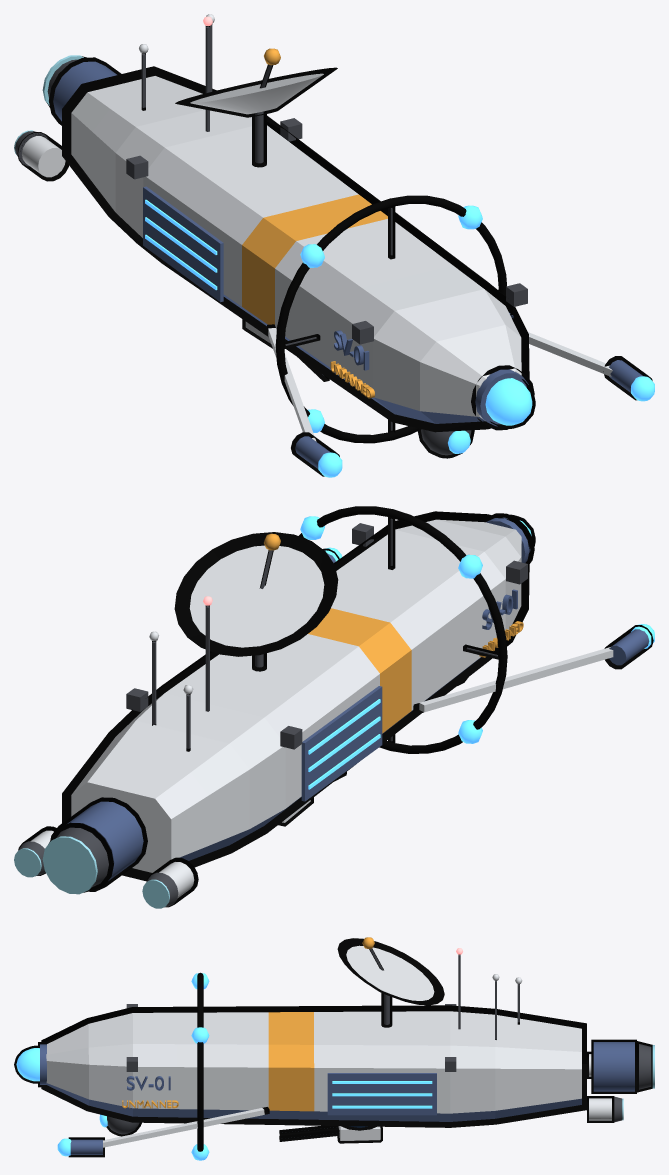
The model's file is Shuttle_Drone.fbx.
The picture shows the model from 3 angles, top to bottom: view 1: azimuth 30°, elevation 25°; view 2: azimuth 150°, elevation 25°; view 3: azimuth 270°, elevation 25°; orthographic projection. The views are drawn at different scales.
Visible parts, largest first — view 1: Hull.004, SensorRing, Array-1, Dish, Lidar, Ion_Body, Thr-1_Body, LidarCollar, Boom1, BoomPod-1, Boom-1, BoomPod1 (+3 smaller); view 2: Hull.004, Dish, Array-1, SensorRing, Ion_Body, Ion_Glow, Boom-1, Ion_Bell, BoomPod-1, Thr-1_Body, LidarCollar, Thr1_Glow (+1 smaller); view 3: Hull.004, Dish, Array1, Ion_Body, Boom1, SensorRing, Lidar, Ion_Bell, Thr1_Body, BoomPod1, Turret_House.001, CamBall (+6 smaller).
Part boxes in pixels (x1,y1,x2,y2): Hull.004: (62,66,529,432); SensorRing: (275,195,506,443); Array-1: (143,186,223,302); Dish: (175,67,337,117); Lidar: (485,378,535,428); Ion_Body: (49,57,121,125); Thr-1_Body: (17,132,68,181); LidarCollar: (471,365,534,430); Boom1: (528,332,612,376); BoomPod-1: (291,432,339,476); Boom-1: (267,324,316,441); BoomPod1: (603,356,652,400); Hull.004: (62,511,529,881); Dish: (174,532,338,656); Array-1: (301,686,382,801); SensorRing: (299,506,507,753); Ion_Body: (50,797,147,891); Ion_Glow: (42,836,97,894); Boom-1: (413,647,613,713); Ion_Bell: (49,822,113,892); BoomPod-1: (604,625,653,669); Thr-1_Body: (146,857,198,907); LidarCollar: (481,513,534,563); Thr1_Glow: (14,848,41,877); Hull.004: (41,1005,586,1127); Dish: (337,938,444,1005); Array1: (327,1073,436,1115); Ion_Body: (591,1039,636,1093); Boom1: (103,1107,269,1147); SensorRing: (197,972,203,1151); Lidar: (14,1045,39,1083); Ion_Bell: (637,1041,652,1092); Thr1_Body: (587,1096,614,1122); BoomPod1: (68,1137,104,1157); Turret_House.001: (337,1126,382,1143); CamBall: (106,1116,141,1136).
Bounding box in the file's own units: 6.04 × 5.21 × 14.1.
